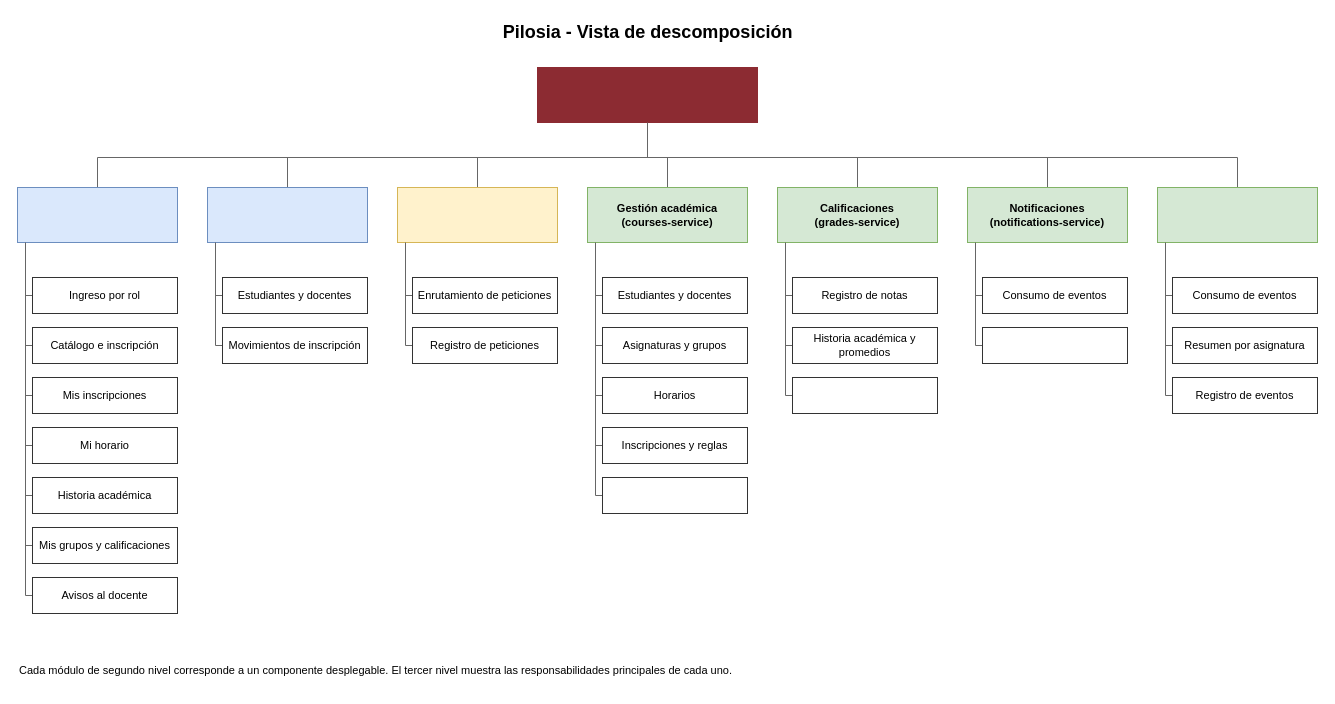
This 1335x704 diagram has some shape labels left out. Here are the shapes that lost their labels. From the top down, the centre of each, then its label:
At point (647, 94): "Pilosia Sistema de información académica".
At point (97, 214): "Portal académico (pilosia-frontend)".
At point (287, 214): "Panel administrativo (admin-dashboard)".
At point (477, 214): "Comunicación (api-gateway)".
At point (1237, 214): "Estadísticas (stats-service)".
At point (1055, 345): "Avisos por docente".
At point (865, 395): "Validación con courses-service".
At point (675, 495): "Publicación de eventos".
